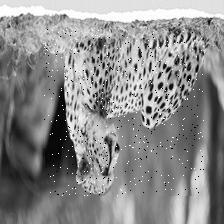Cheetha: (43, 29, 203, 196)
